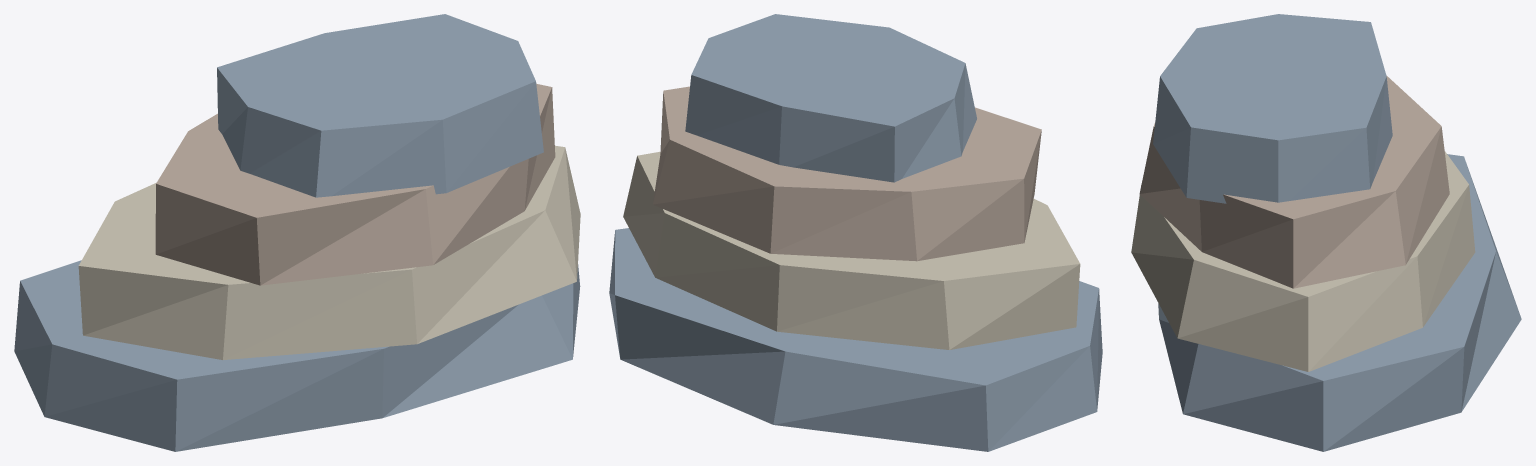
Rendered from layered_shelf.glb.
3 renders of one model, left to right at view 1: azimuth 30°, elevation 25°; view 2: azimuth 150°, elevation 25°; view 3: azimuth 270°, elevation 25°, orthographic. The views are drawn at different scales.
Parts seen in each view (by area): view 1: DL008_LayeredSedimentShelf_stone_blue, DL008_LayeredSedimentShelf_sediment, DL008_LayeredSedimentShelf_stone_warm; view 2: DL008_LayeredSedimentShelf_stone_blue, DL008_LayeredSedimentShelf_sediment, DL008_LayeredSedimentShelf_stone_warm; view 3: DL008_LayeredSedimentShelf_stone_blue, DL008_LayeredSedimentShelf_sediment, DL008_LayeredSedimentShelf_stone_warm.
Part boxes in pixels (x1,y1,x2,y2): DL008_LayeredSedimentShelf_stone_blue: [14, 14, 580, 451]; DL008_LayeredSedimentShelf_sediment: [78, 145, 580, 359]; DL008_LayeredSedimentShelf_stone_warm: [155, 83, 555, 285]; DL008_LayeredSedimentShelf_stone_blue: [609, 14, 1102, 451]; DL008_LayeredSedimentShelf_sediment: [623, 151, 1080, 349]; DL008_LayeredSedimentShelf_stone_warm: [653, 86, 1041, 261]; DL008_LayeredSedimentShelf_stone_blue: [1153, 14, 1521, 451]; DL008_LayeredSedimentShelf_sediment: [1131, 151, 1475, 371]; DL008_LayeredSedimentShelf_stone_warm: [1139, 75, 1449, 288].
Bounding box in the file's own units: 3.17 × 1.6 × 2.08.
